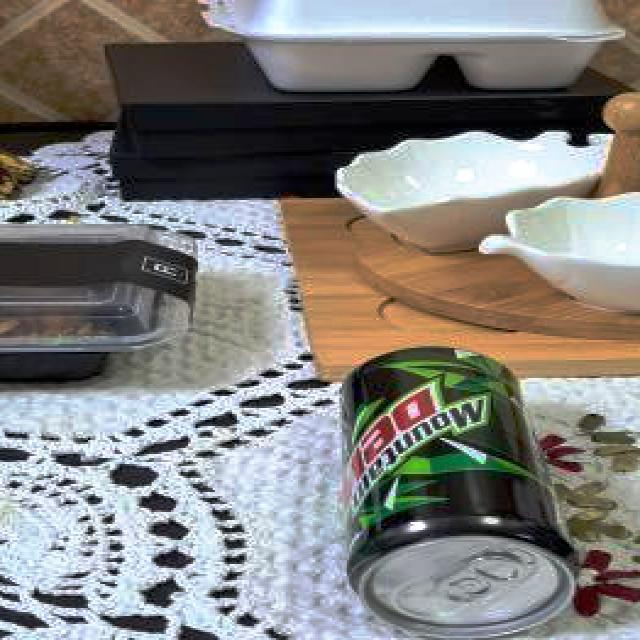Lata: (339, 350, 572, 636)
